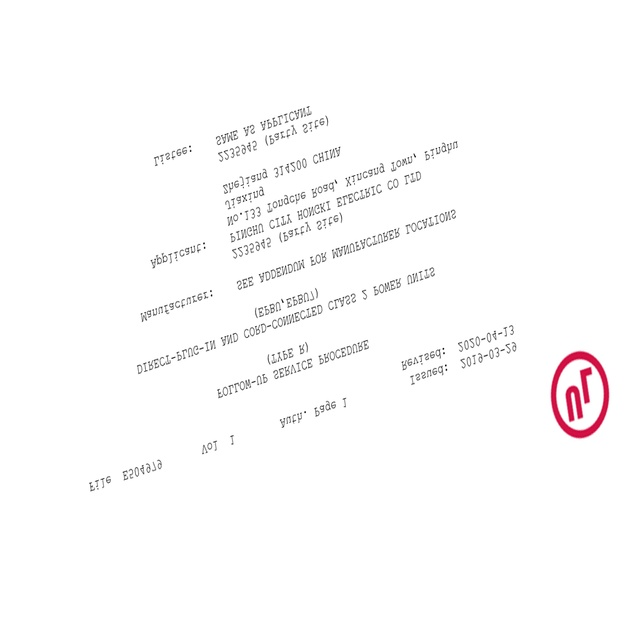ul: (549, 348, 611, 442)
